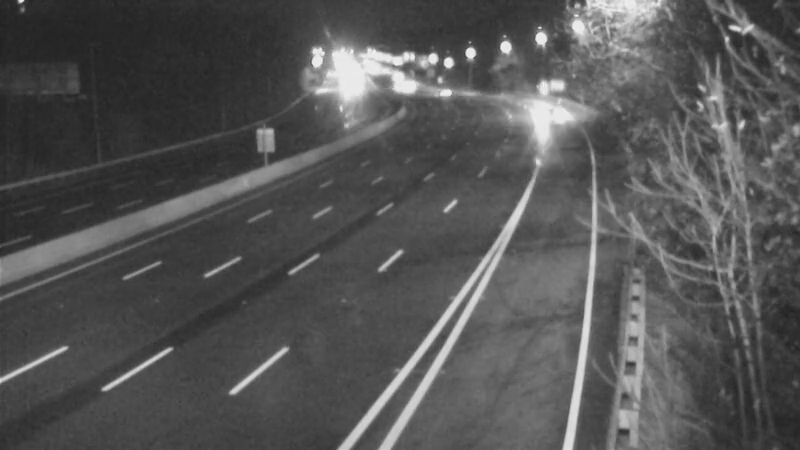vehicle: (417, 66, 467, 116), (519, 90, 569, 140)
